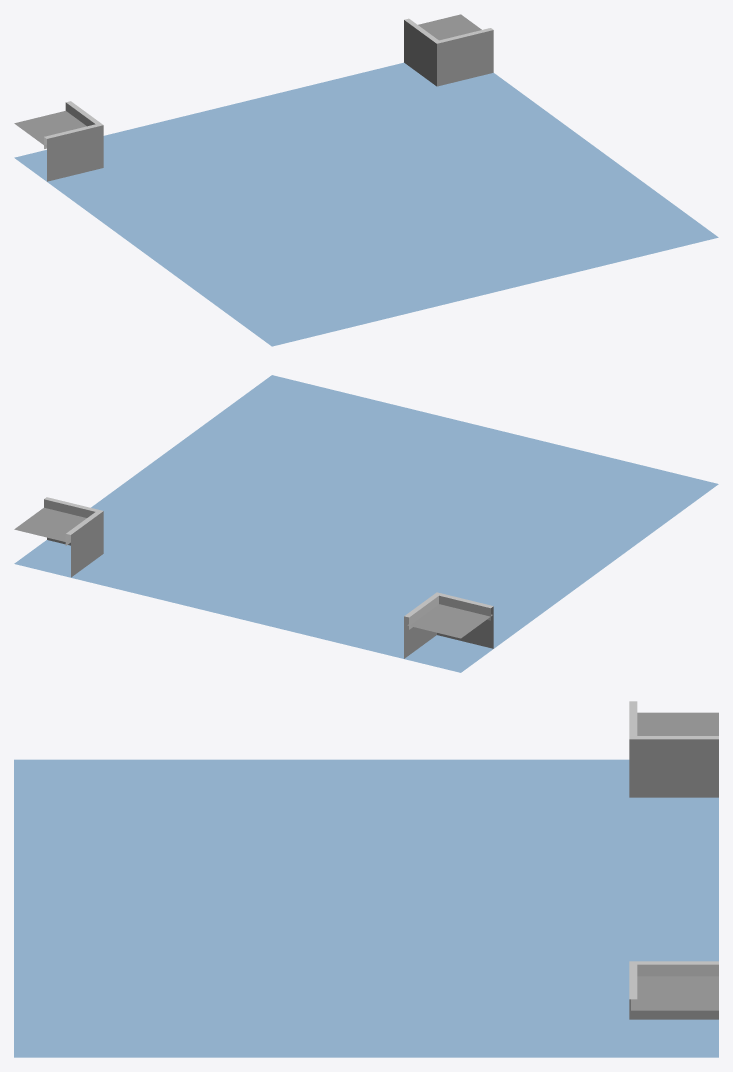
File: road_tile_river_2x2_009.fbx
3 views of the same model, one above another, from view 1: azimuth 30°, elevation 25°; view 2: azimuth 150°, elevation 25°; view 3: azimuth 270°, elevation 25° (orthographic). The views are drawn at different scales.
Visible parts, largest first — view 1: road_tile_river_2x2_009; view 2: road_tile_river_2x2_009; view 3: road_tile_river_2x2_009.
Part boxes in pixels (x1=…): road_tile_river_2x2_009: x1=14, y1=14, x2=718, y2=346; road_tile_river_2x2_009: x1=14, y1=375, x2=718, y2=672; road_tile_river_2x2_009: x1=14, y1=701, x2=718, y2=1057.
Bounding box in the file's own units: 1600 × 146 × 1600.
